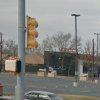Traffic light: (19, 11, 51, 56)
